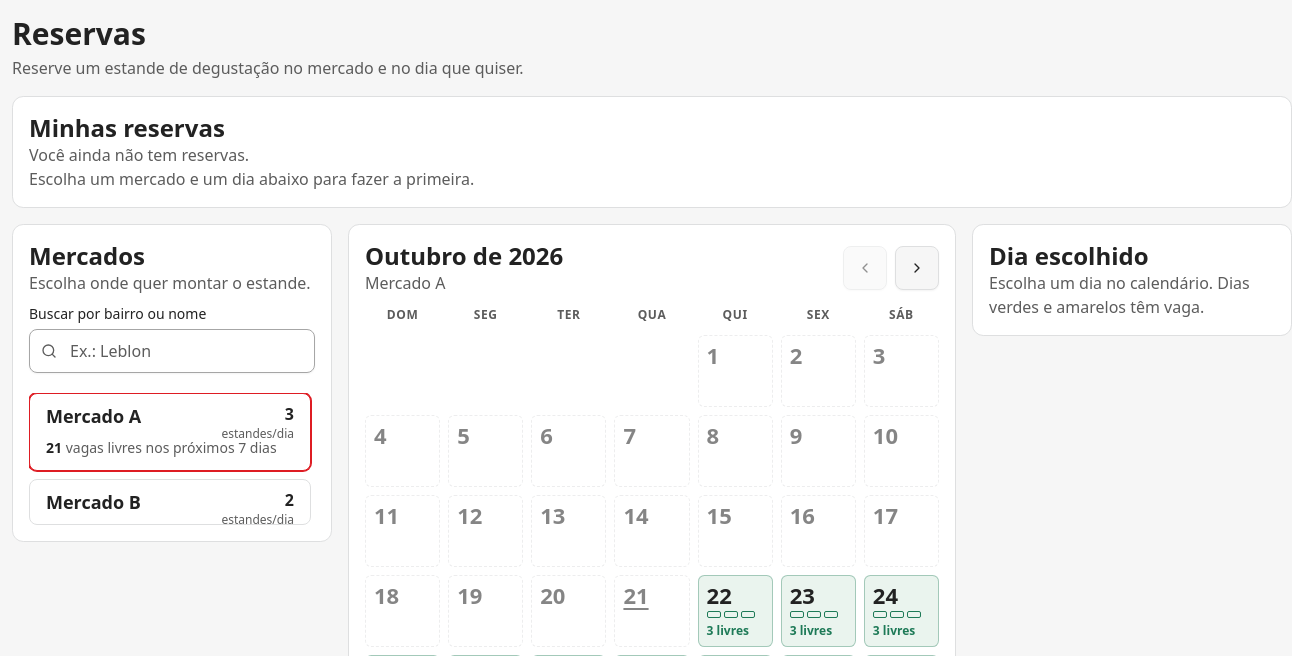
Test: SupplierScreen: reservar › "Voltar" desiste da confirmação
Click the button with aria-label "Sábado, 24 de outubro".
click(901, 611)  # box [864,575,939,647]
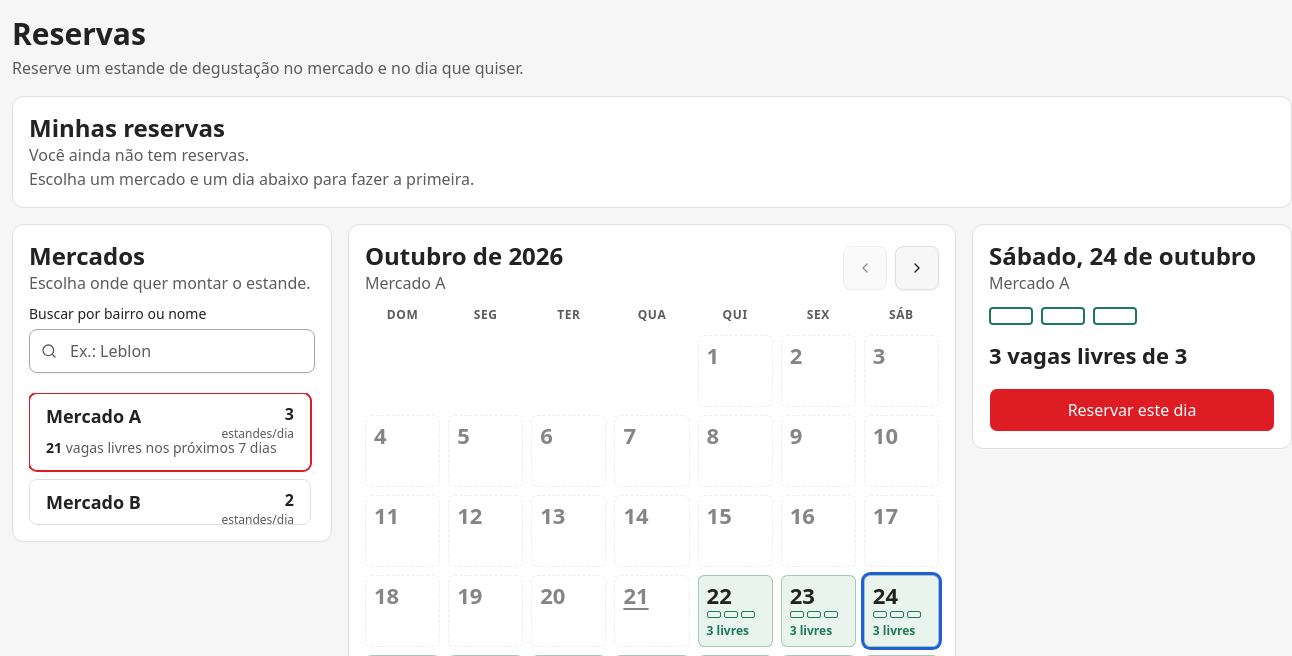
Click the button "Reservar este dia".
click(1132, 410)  # box [989,388,1275,432]
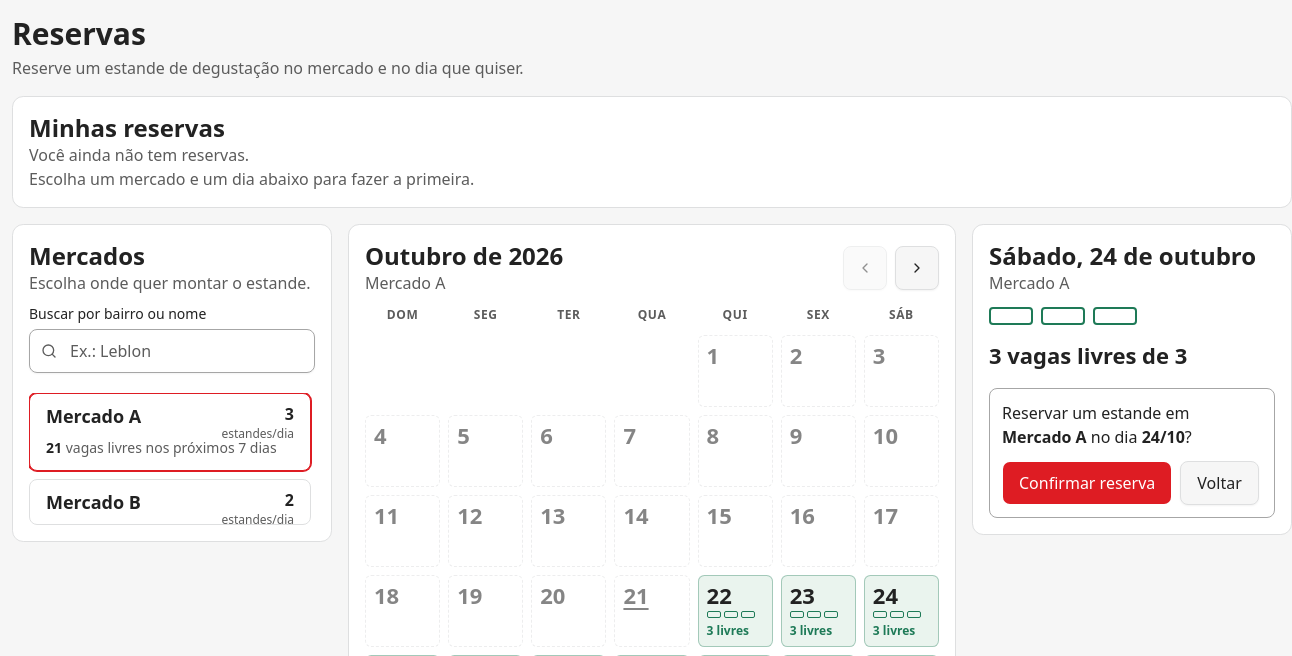
Click the button "Voltar".
click(1220, 483)  # box [1180,461,1259,505]
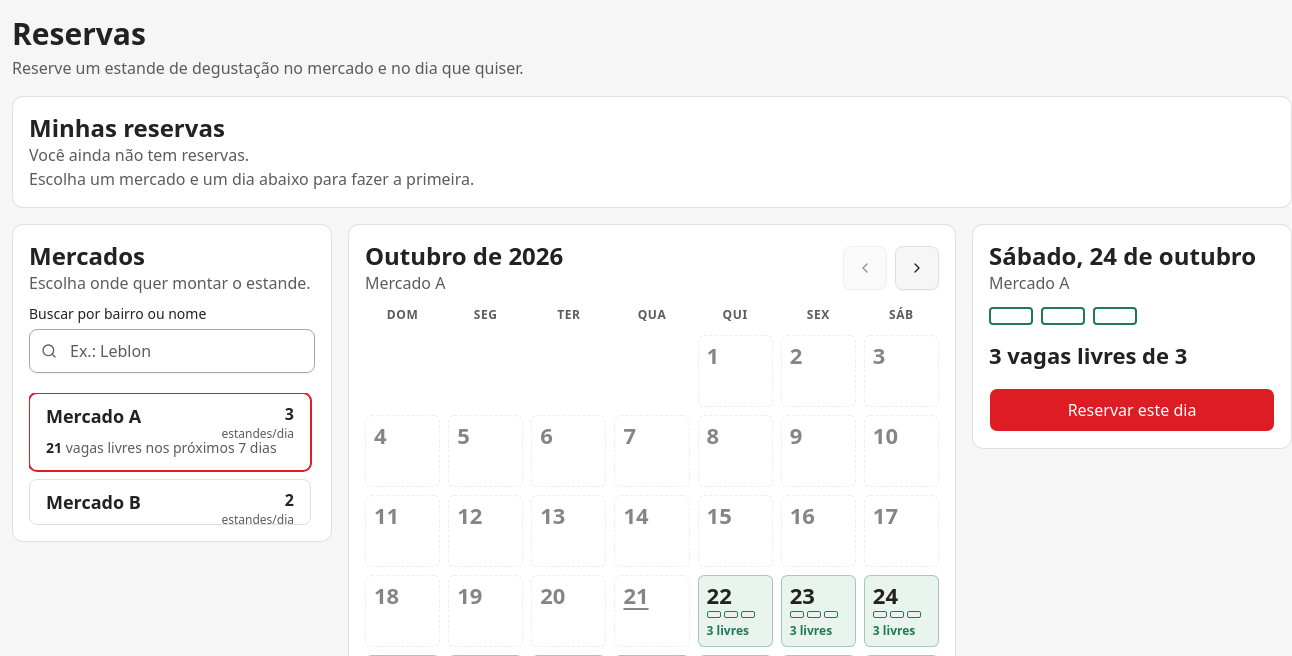
Now the button "Reservar este dia" is shown, box [989,388,1275,432]
